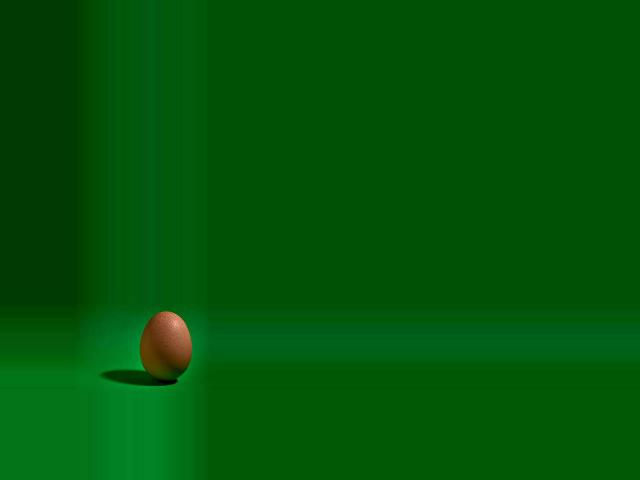egg: (139, 312, 191, 381)
